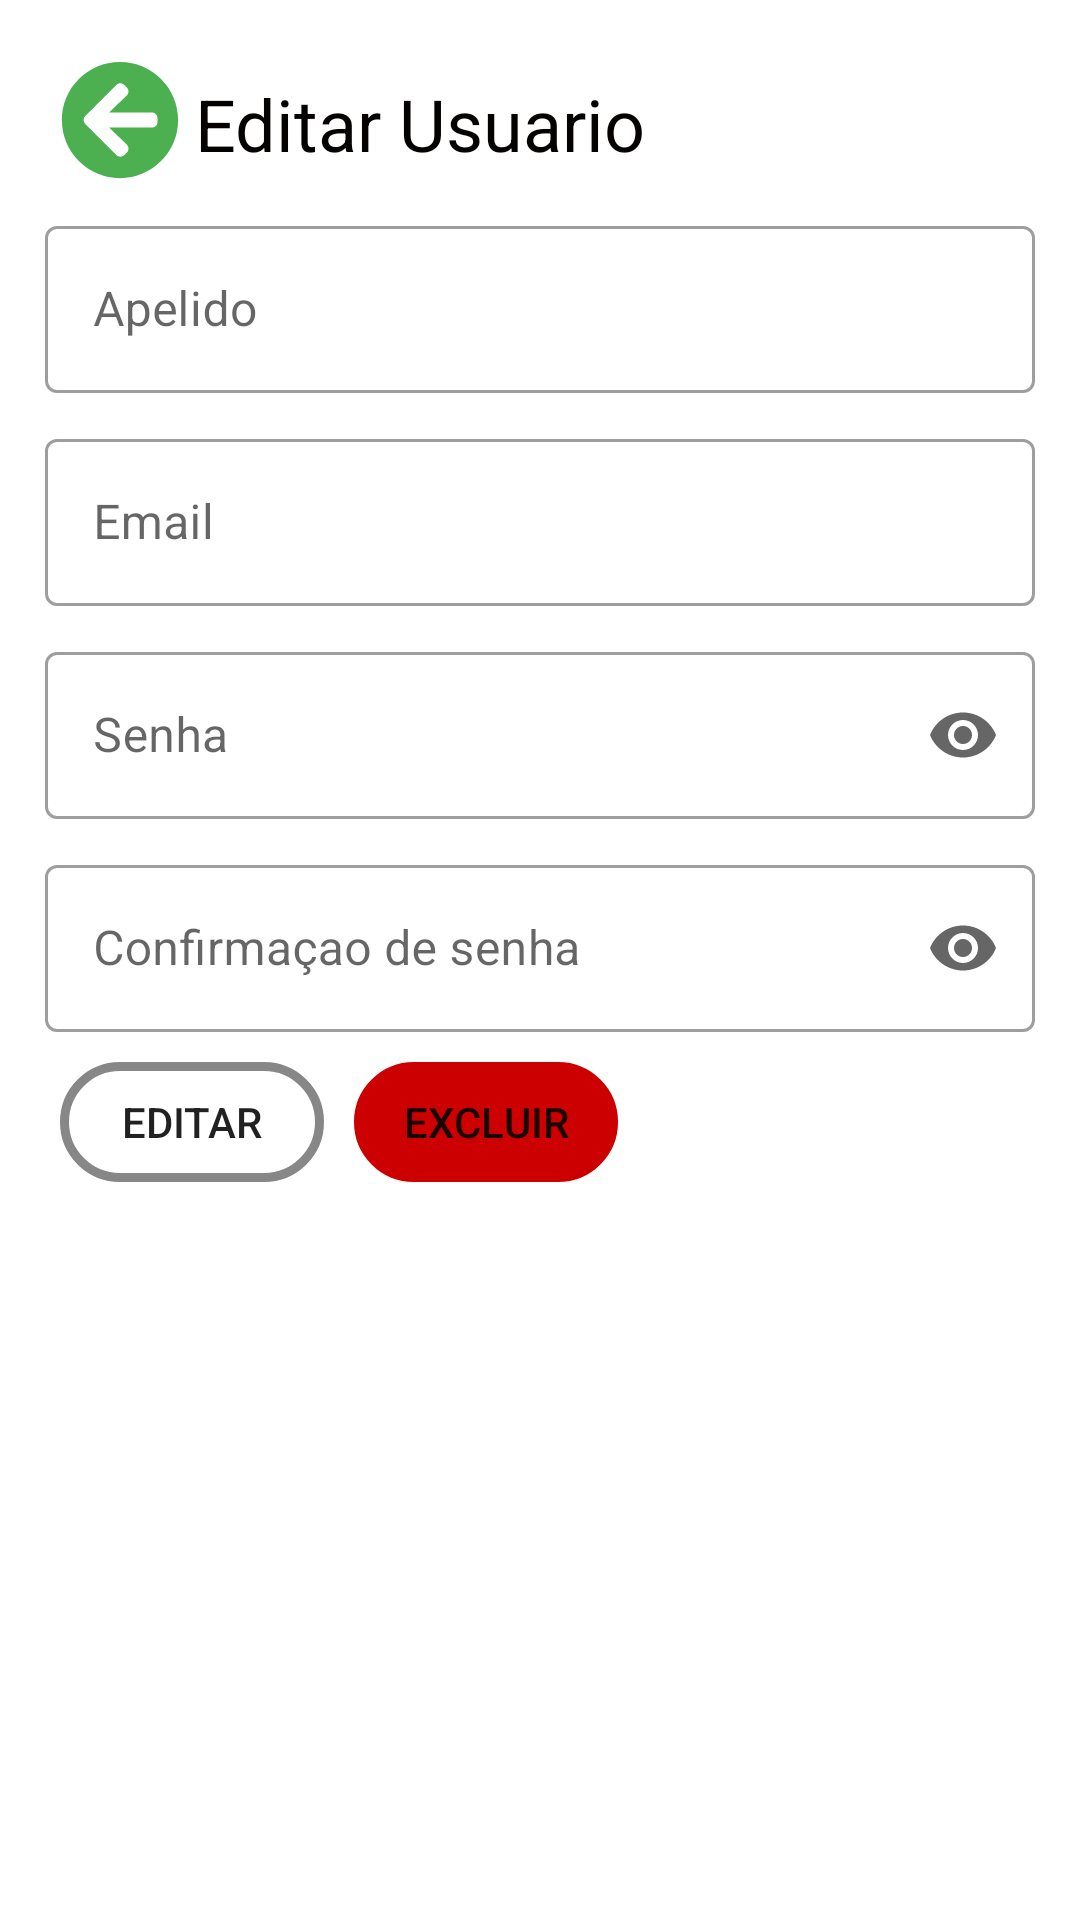

Point at icon controls on the screen. Image size 1080x1920, points as [x,y].
voltar: [120,120]
